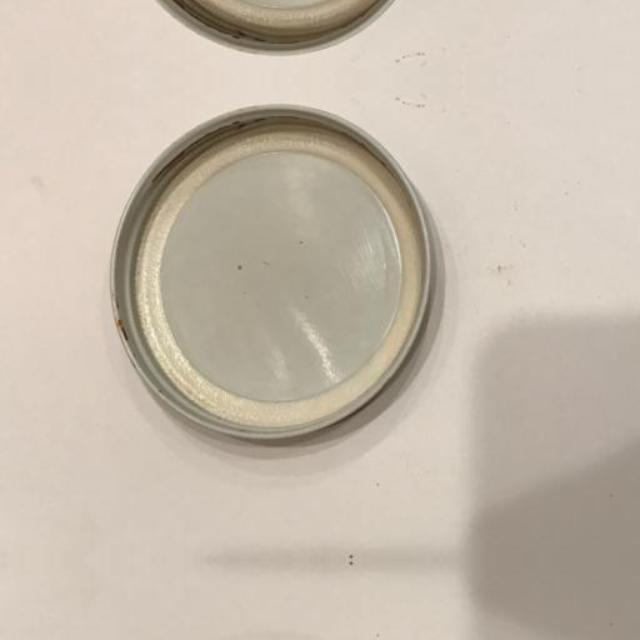Metal: (89, 101, 448, 455), (88, 0, 447, 59)
